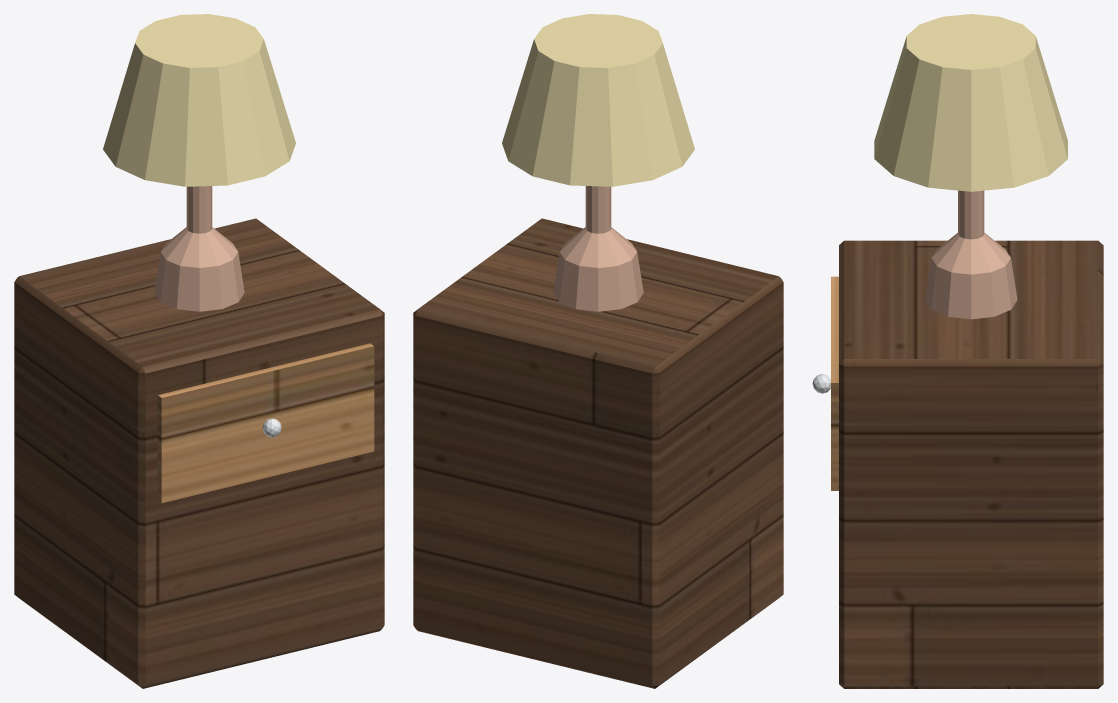
File: nightstand.glb
The picture shows the model from 3 angles, left to right: view 1: azimuth 30°, elevation 25°; view 2: azimuth 150°, elevation 25°; view 3: azimuth 270°, elevation 25°; orthographic projection. The views are drawn at different scales.
Parts seen in each view (by area): view 1: nightstand_dkwood, nightstand_cloth_y, nightstand_wood, nightstand_pot; view 2: nightstand_dkwood, nightstand_cloth_y, nightstand_pot; view 3: nightstand_dkwood, nightstand_cloth_y, nightstand_pot, nightstand_wood.
Boxes of the visible parts, x1=… form: nightstand_dkwood: x1=14, y1=218, x2=384, y2=688; nightstand_cloth_y: x1=103, y1=14, x2=295, y2=186; nightstand_wood: x1=157, y1=343, x2=374, y2=503; nightstand_pot: x1=154, y1=186, x2=244, y2=311; nightstand_dkwood: x1=413, y1=218, x2=783, y2=688; nightstand_cloth_y: x1=502, y1=14, x2=694, y2=186; nightstand_pot: x1=553, y1=186, x2=643, y2=311; nightstand_dkwood: x1=839, y1=240, x2=1103, y2=688; nightstand_cloth_y: x1=874, y1=14, x2=1067, y2=191; nightstand_pot: x1=925, y1=190, x2=1017, y2=319; nightstand_wood: x1=831, y1=276, x2=838, y2=490.
Size of the model in its own units: 0.44 by 0.98 by 0.44.
5 materials, 2 textured.
